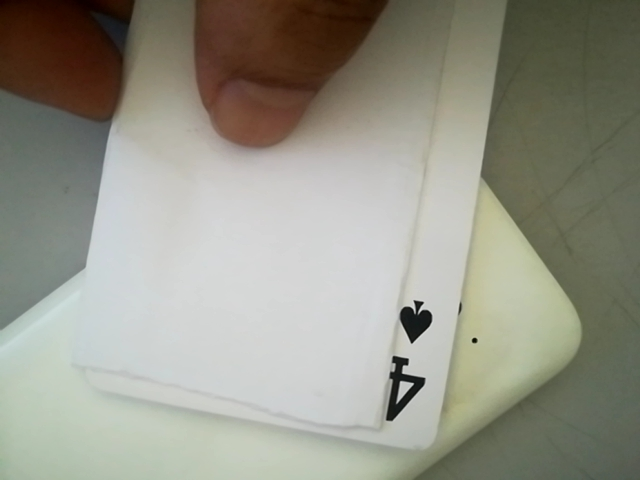ht 4: (365, 284, 449, 437)
